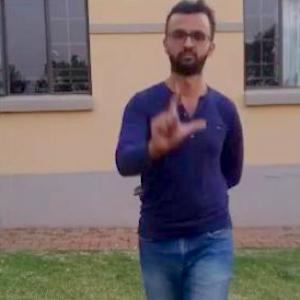land_hand: (143, 77, 210, 151)
